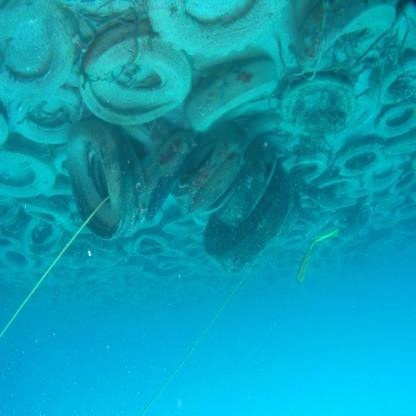tire: (65, 118, 297, 286), (79, 15, 192, 124), (0, 0, 83, 111), (143, 0, 296, 56), (296, 0, 403, 69), (0, 195, 70, 283), (6, 74, 89, 147), (281, 64, 361, 138), (0, 136, 57, 204), (375, 50, 416, 107), (371, 98, 416, 143), (286, 145, 330, 188), (342, 134, 382, 178)
